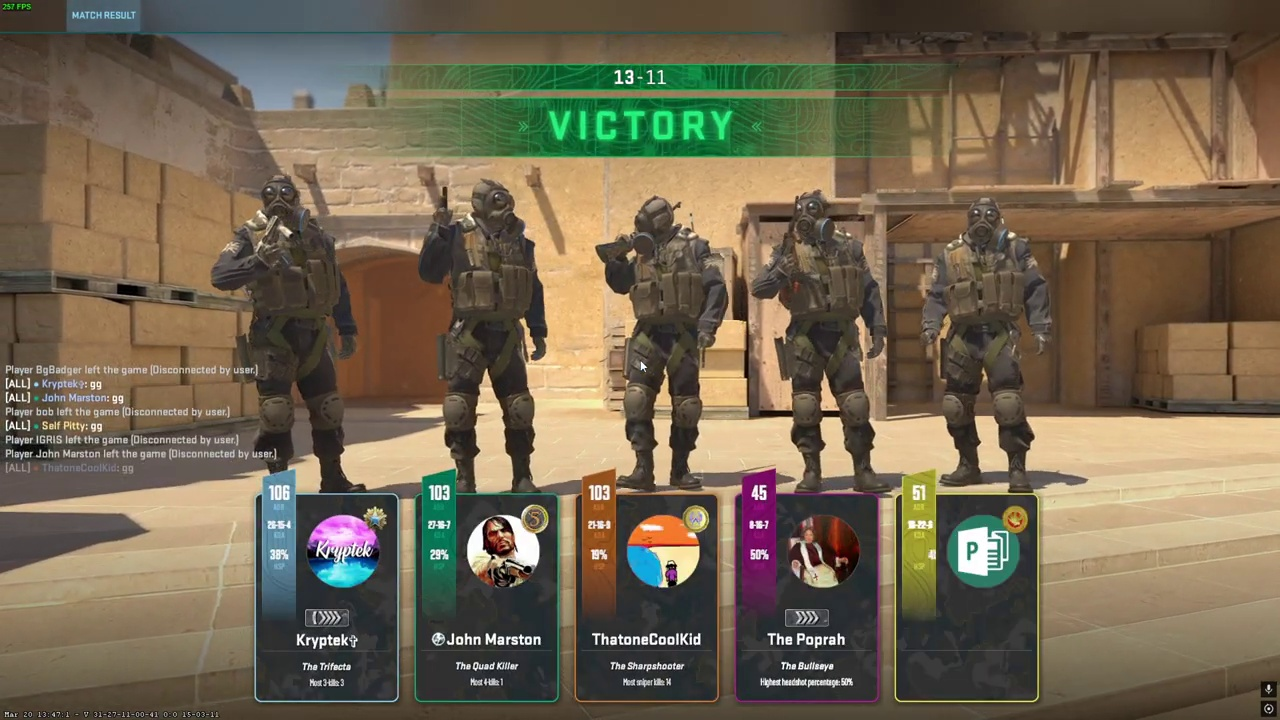CT: (231, 174, 350, 494), (431, 178, 541, 495), (767, 188, 878, 493), (609, 195, 719, 490), (930, 196, 1038, 490)
